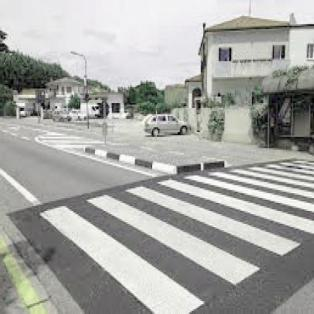Paso de Cebra: (48, 182, 303, 289)
